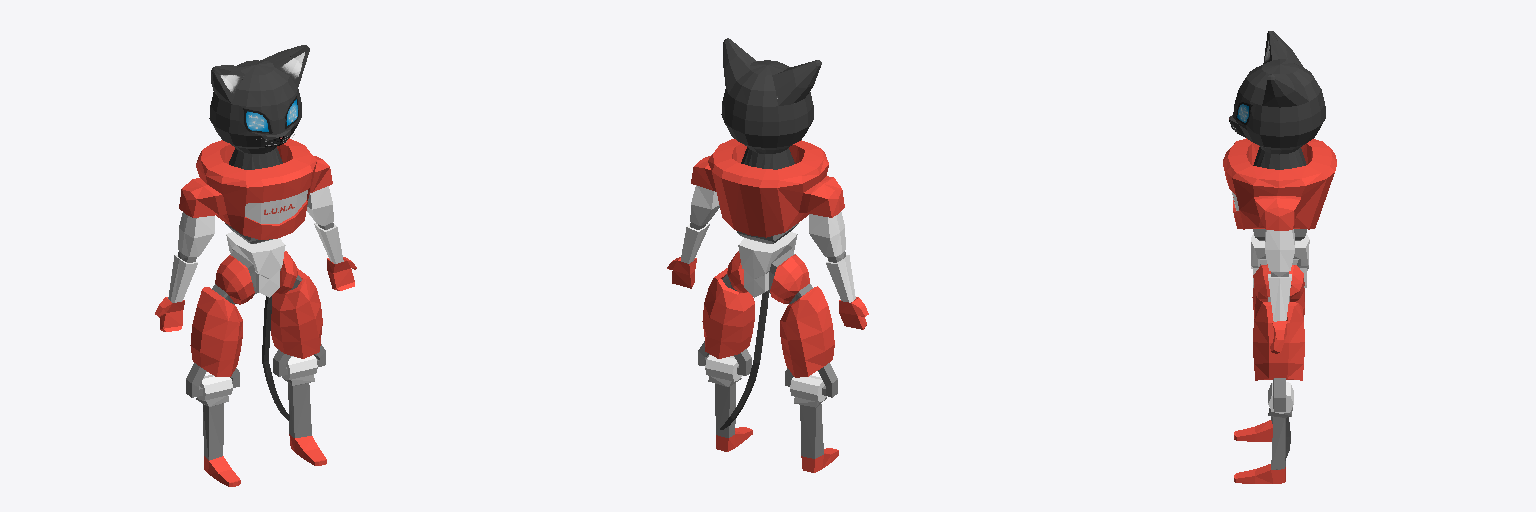
The picture shows the model from 3 angles: view 1: azimuth 30°, elevation 25°; view 2: azimuth 150°, elevation 25°; view 3: azimuth 270°, elevation 25°; orthographic projection.
Visible parts, largest first — view 1: CUERPO.002, CABLE.002; view 2: CUERPO.002, CABLE.002; view 3: CUERPO.002.
Boxes of the visible parts, <box> form: CUERPO.002: <box>155,45,356,486</box>; CABLE.002: <box>262,296,289,420</box>; CUERPO.002: <box>667,38,868,472</box>; CABLE.002: <box>720,292,768,429</box>; CUERPO.002: <box>1223,31,1336,483</box>.
Size of the model in its own units: 3.33 by 6.49 by 1.67.
2 materials, 1 textured.